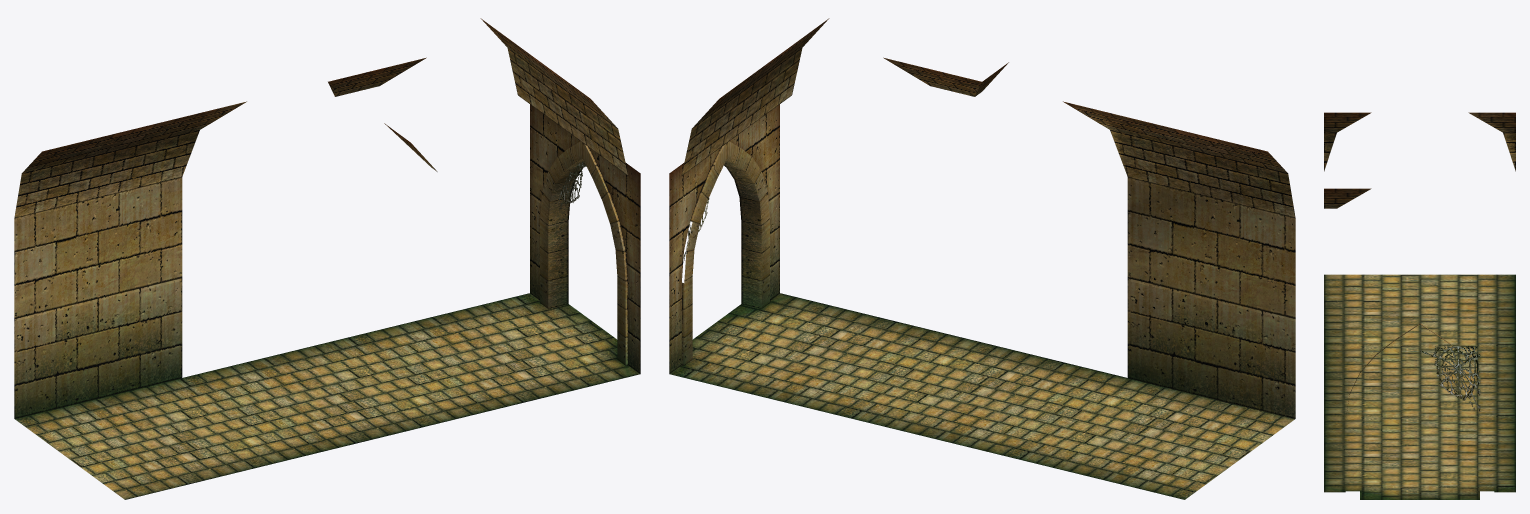
File: Mission12_Sewer02PT1.glb
3 views of the same model, side by side, from view 1: azimuth 30°, elevation 25°; view 2: azimuth 150°, elevation 25°; view 3: azimuth 270°, elevation 25° (orthographic). The views are drawn at different scales.
Visible parts, largest first — view 1: MISSION12_SEWER02PT1; view 2: MISSION12_SEWER02PT1; view 3: MISSION12_SEWER02PT1.
Part boxes in pixels (x1=…): MISSION12_SEWER02PT1: x1=14, y1=18, x2=640, y2=499; MISSION12_SEWER02PT1: x1=669, y1=18, x2=1295, y2=499; MISSION12_SEWER02PT1: x1=1324, y1=112, x2=1515, y2=499.
Bounding box in the file's own units: 11.12 × 6 × 4.
Materials: 4 (4 with a texture image).
